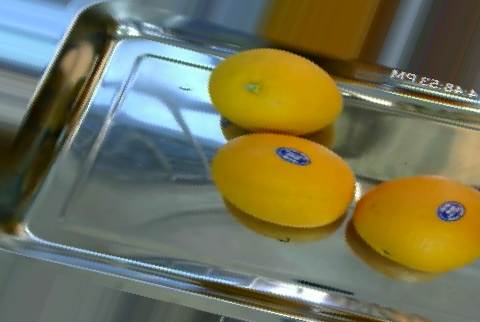Orange: (210, 133, 357, 227), (352, 174, 480, 272), (209, 47, 344, 135)
